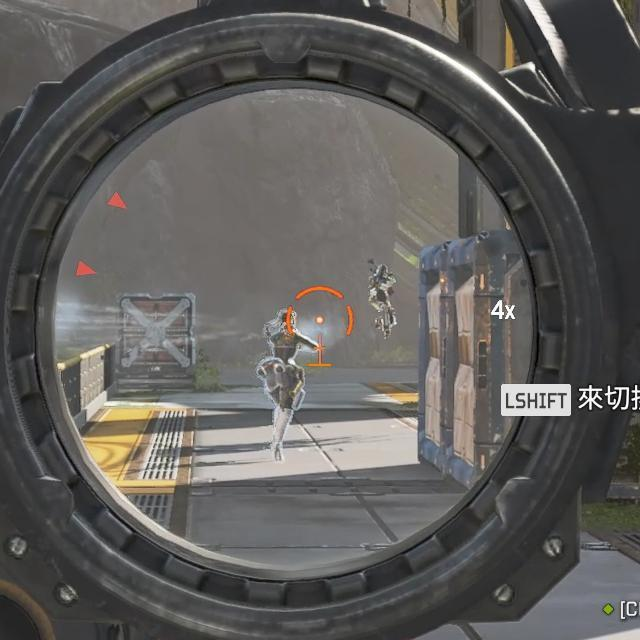avatar: (254, 309, 307, 463), (366, 263, 400, 340)
